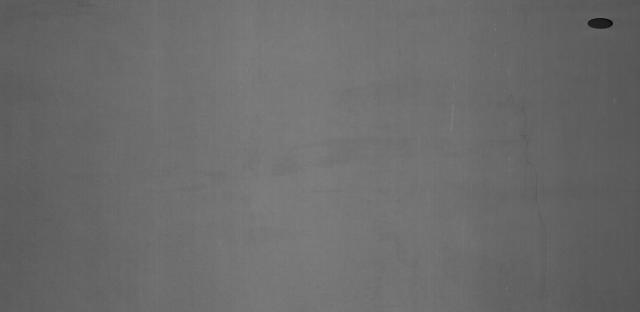punching_hole: (584, 14, 618, 31)
